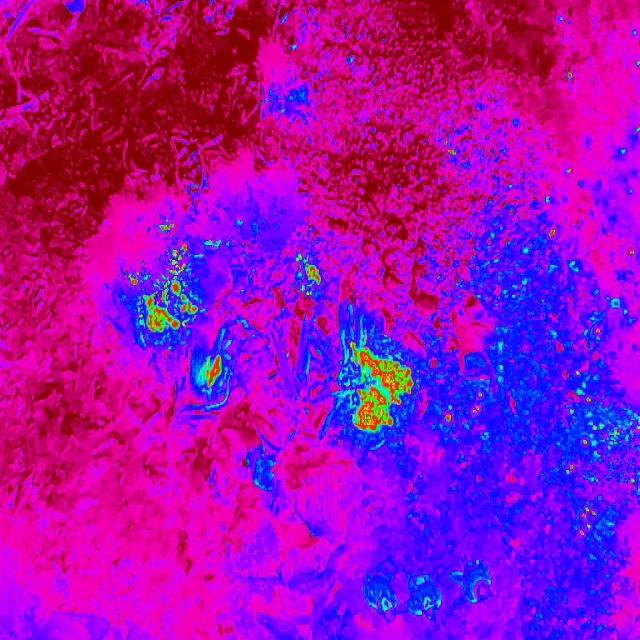fire: (530, 222, 640, 542), (341, 339, 418, 436), (130, 247, 202, 342), (438, 392, 486, 430), (294, 253, 324, 295), (200, 350, 225, 390), (439, 134, 462, 162), (156, 220, 174, 234)
